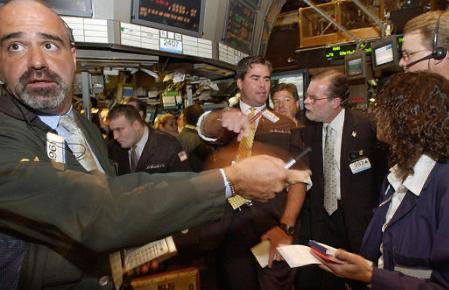Face: (0, 22, 75, 108), (390, 27, 440, 82), (300, 80, 335, 125), (241, 66, 274, 106), (104, 117, 144, 147), (269, 91, 301, 120)
